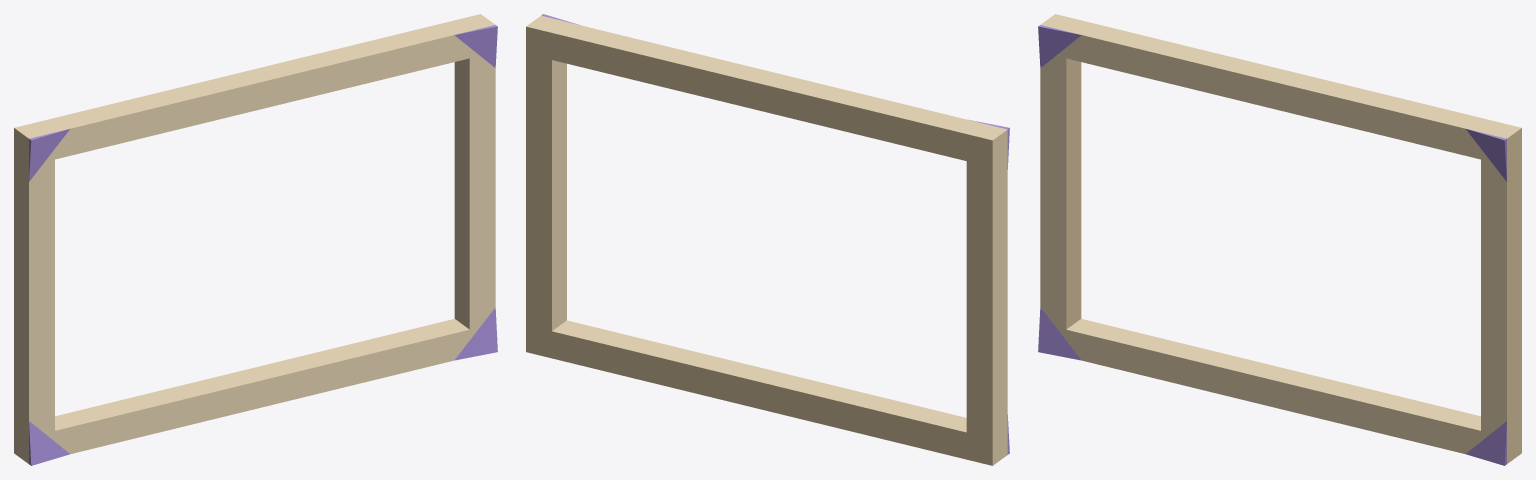
Rendered from partner_window.glb.
The picture shows the model from 3 angles, left to right: view 1: azimuth 30°, elevation 25°; view 2: azimuth 150°, elevation 25°; view 3: azimuth 330°, elevation 25°; orthographic projection.
Parts seen in each view (by area): view 1: frame; view 2: frame; view 3: frame.
Boxes of the visible parts, x1,y1,x2,y2 form: frame: (14,14,497,465); frame: (526,14,1009,465); frame: (1038,14,1521,465).
Bounding box in the file's own units: 0.18 × 0.12 × 0.0115.
